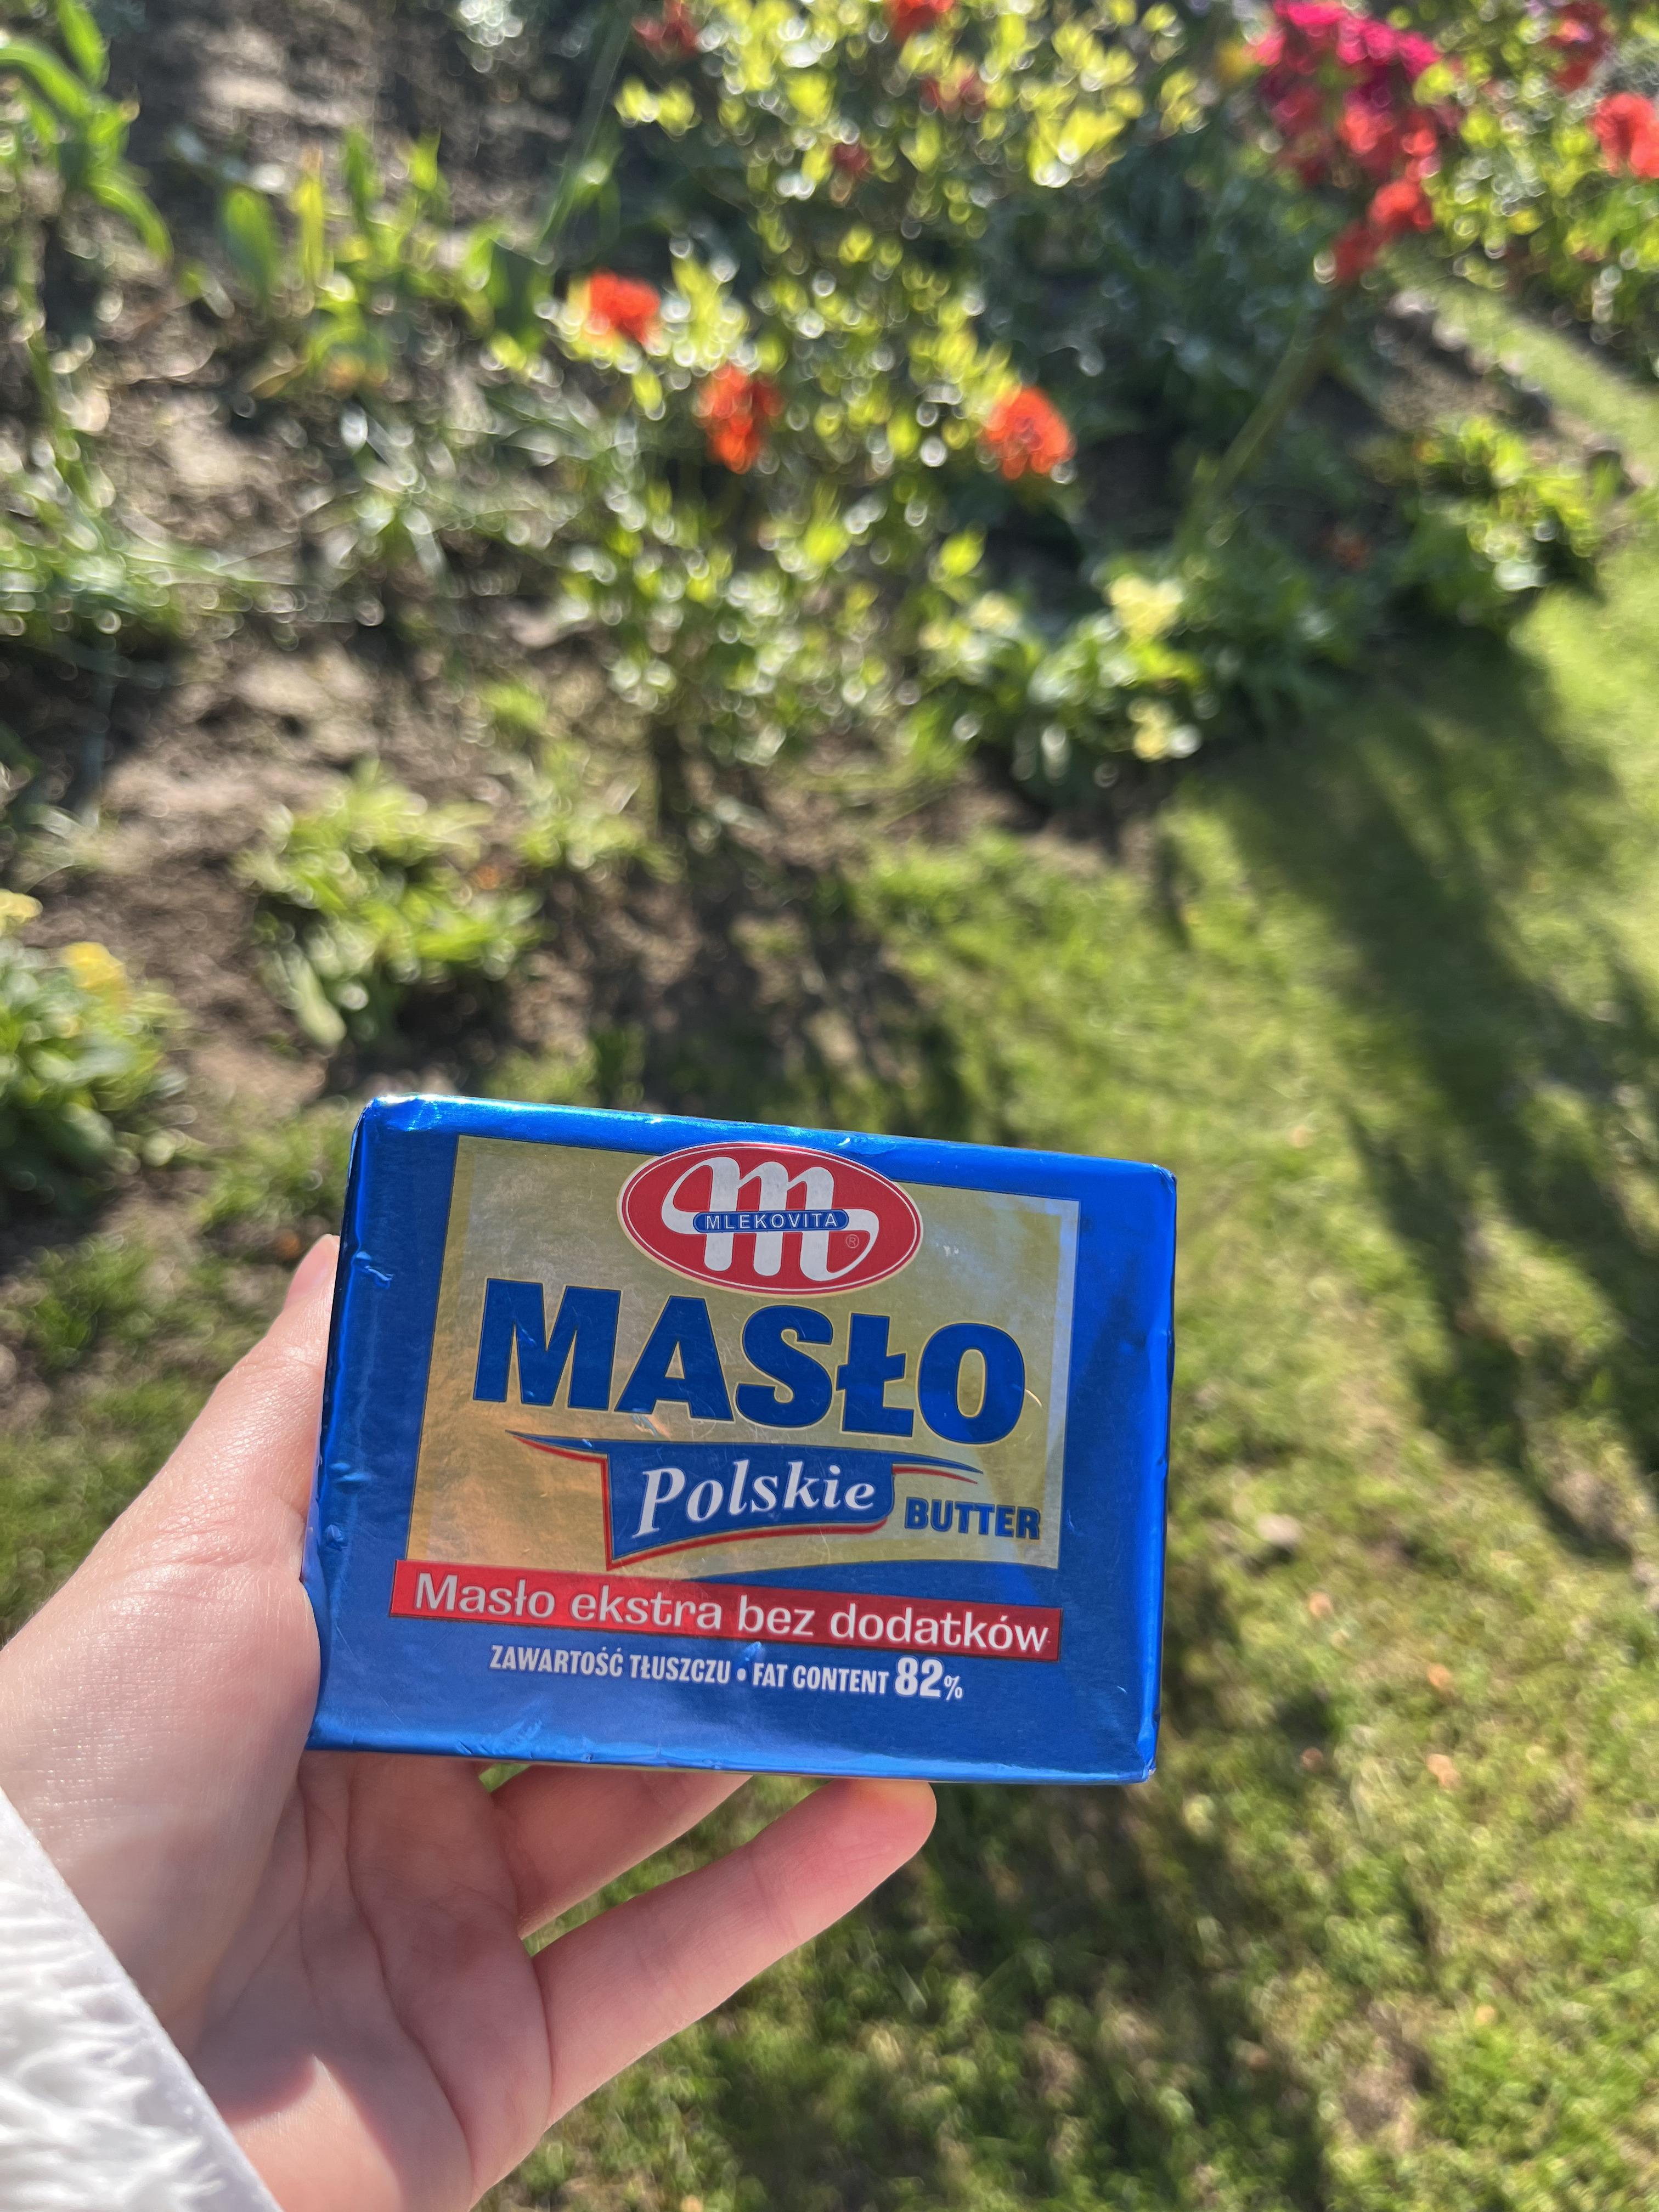Butter: (319, 1099, 1173, 1791)
